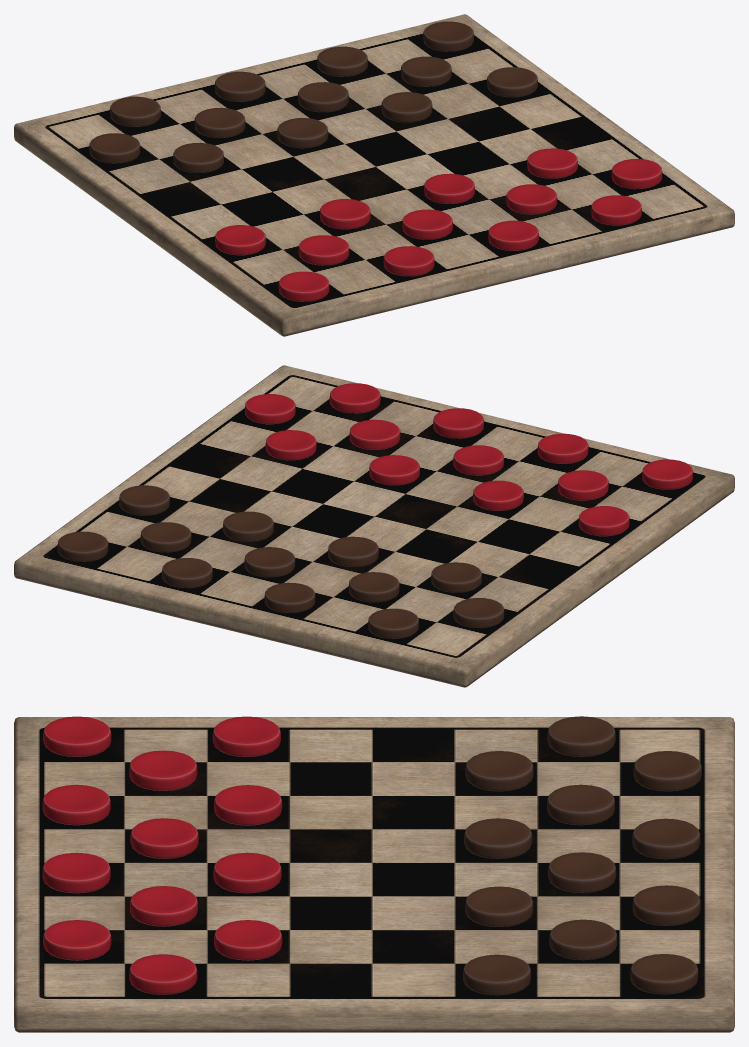
The model's file is checker_board.glb.
3 views of the same model, one above another, from view 1: azimuth 30°, elevation 25°; view 2: azimuth 150°, elevation 25°; view 3: azimuth 270°, elevation 25° (orthographic). The views are drawn at different scales.
Parts seen in each view (by area): view 1: Object_2; view 2: Object_2; view 3: Object_2.
Boxes of the visible parts, box(x1,y1,x2,y2) form: Object_2: box(14, 14, 734, 336); Object_2: box(14, 365, 734, 687); Object_2: box(14, 716, 734, 1032).
Size of the model in its own units: 36.09 by 2.19 by 37.23.
Materials: 1 (1 with a texture image).
